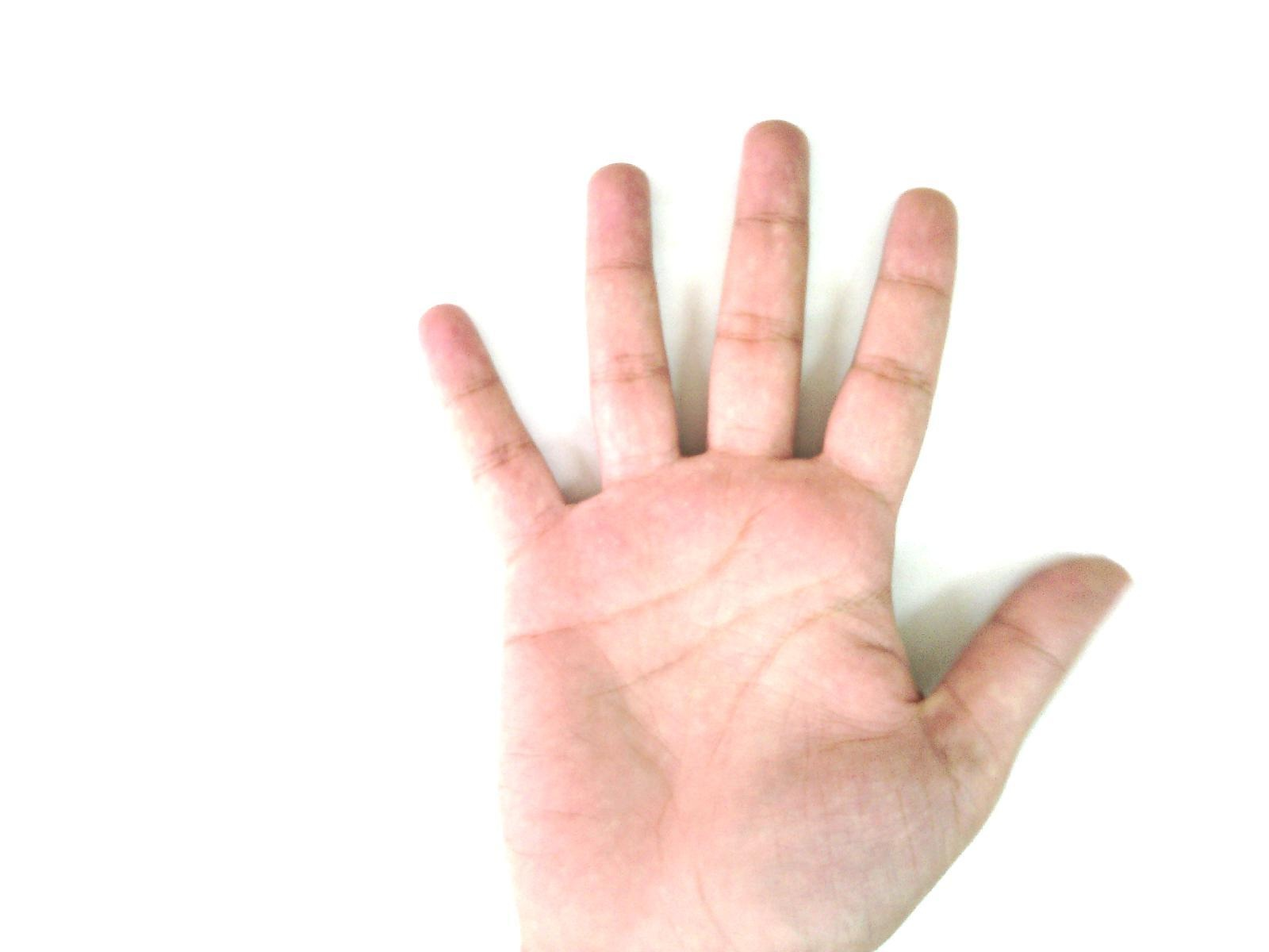open_palm: (415, 118, 1135, 952)
